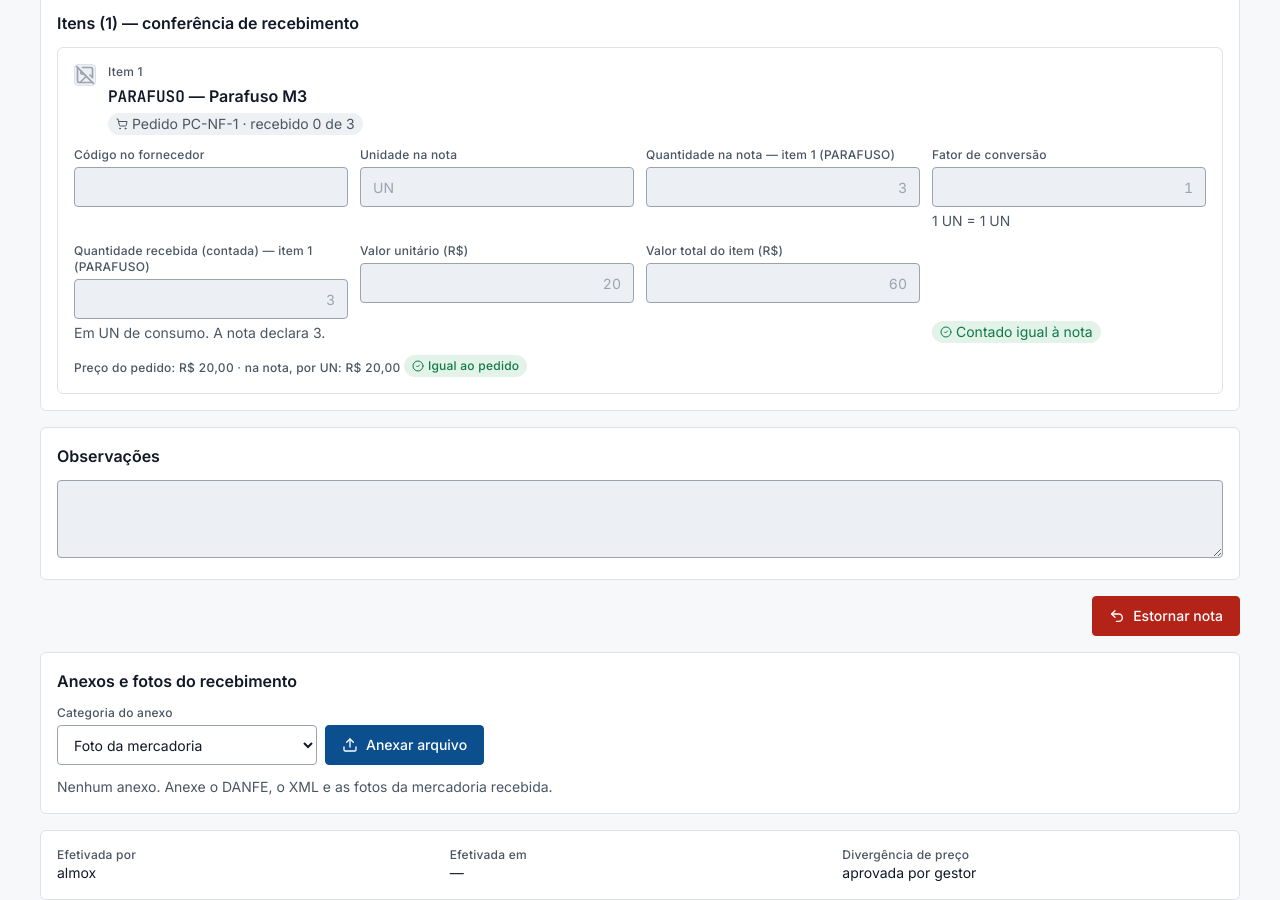
Scenario: NotaEntrada › nota efetivada: estorno pede motivo e mostra a recusa (409) quando o material ja foi consumido
(page scrolled)
Click the button "Estornar nota" at point(1166, 616), box [1092, 596, 1240, 636]
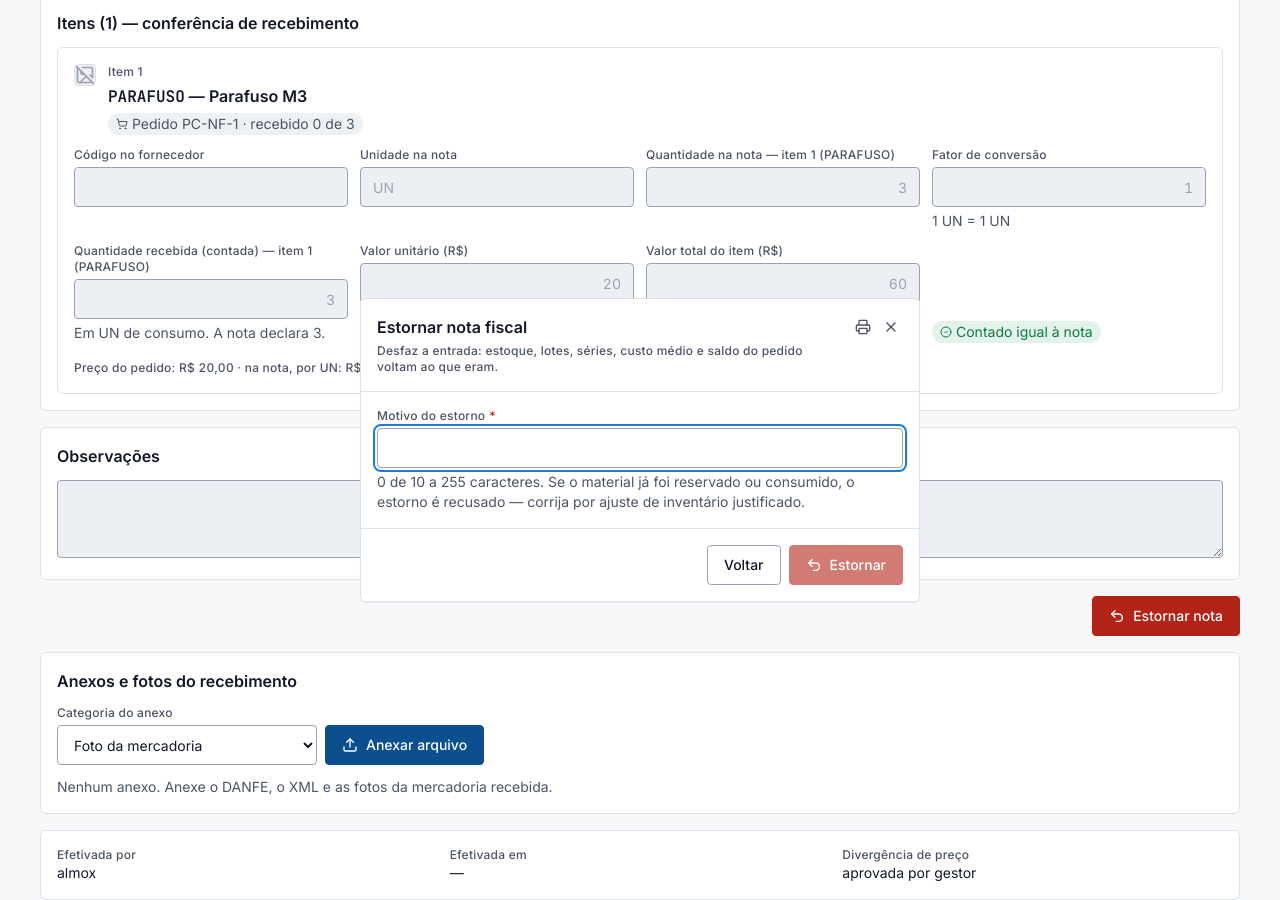
Expected: the button "Estornar" is disabled, [788, 545, 903, 585]
Type "nota lançada no pedido errado" into the field labelled "Motivo do estorno*" at point(640, 448), box [377, 428, 903, 468]
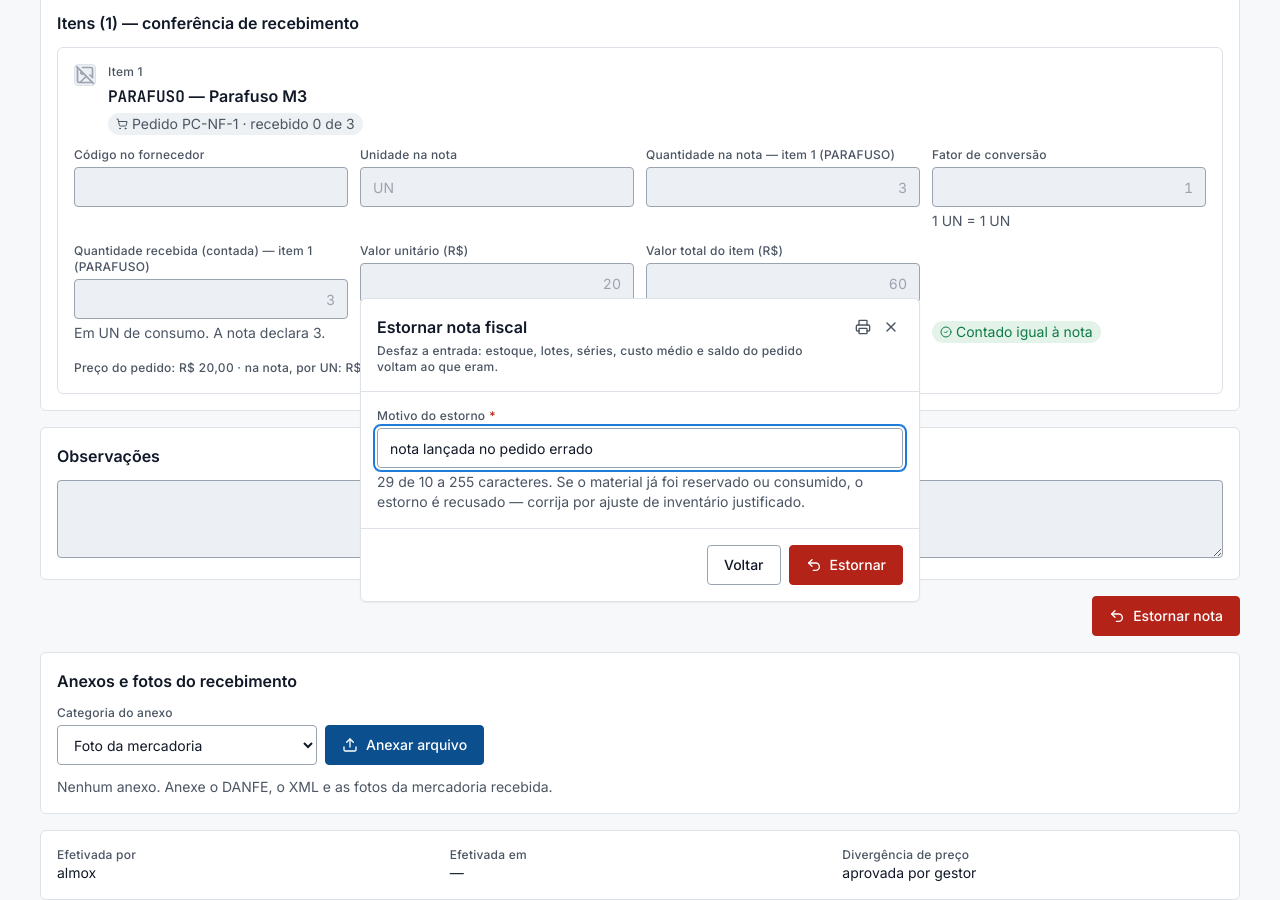
Click the button "Estornar" at point(846, 565), box [788, 545, 903, 585]
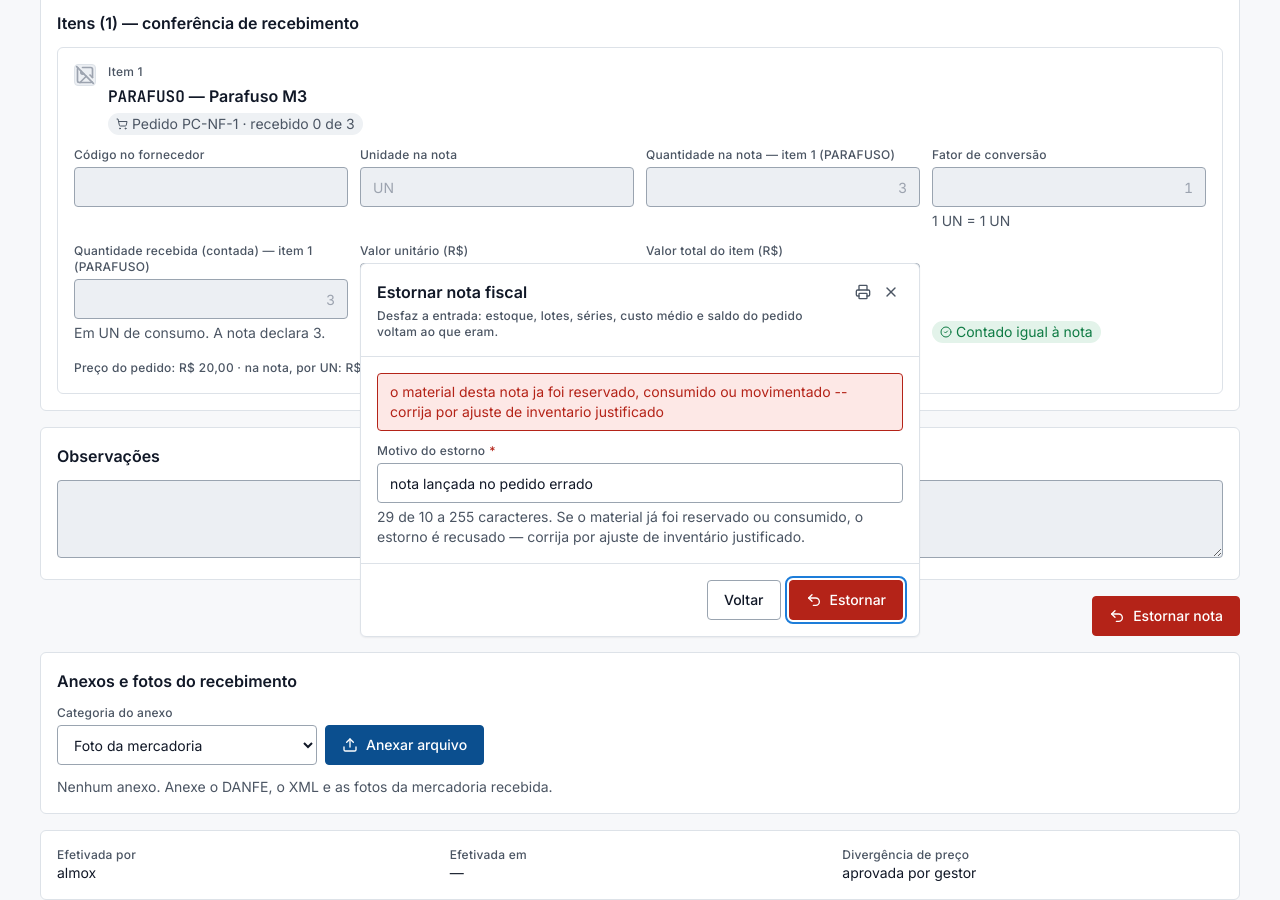
Expected: the message shows "ja foi reservado, consumido ou movimentado", [390, 383, 847, 420]
